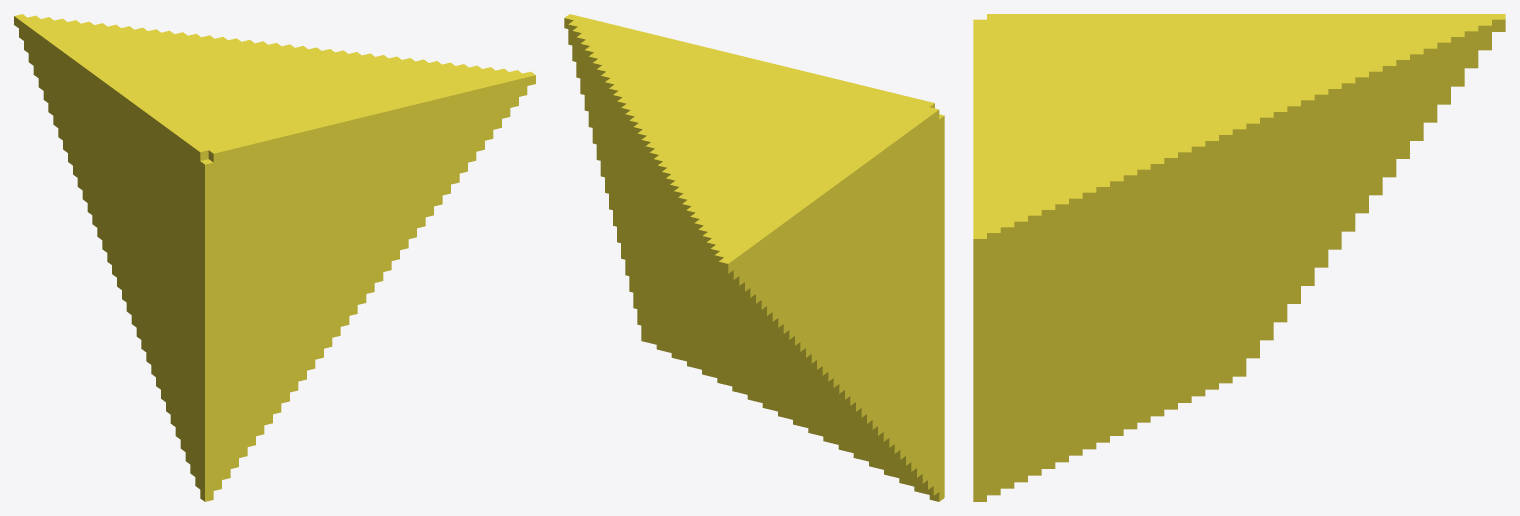
File: crystal-6.obj
The picture shows the model from 3 angles, left to right: view 1: azimuth 30°, elevation 25°; view 2: azimuth 150°, elevation 25°; view 3: azimuth 270°, elevation 25°; orthographic projection. The views are drawn at different scales.
Bounding box in the file's own units: 3.9 × 3.9 × 3.9.
Materials: 1 (1 with a texture image).
